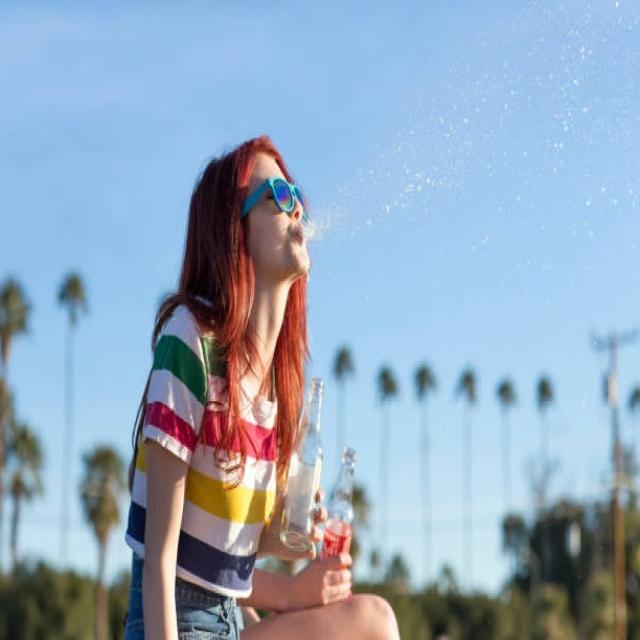Spitting: (179, 138, 357, 418)
